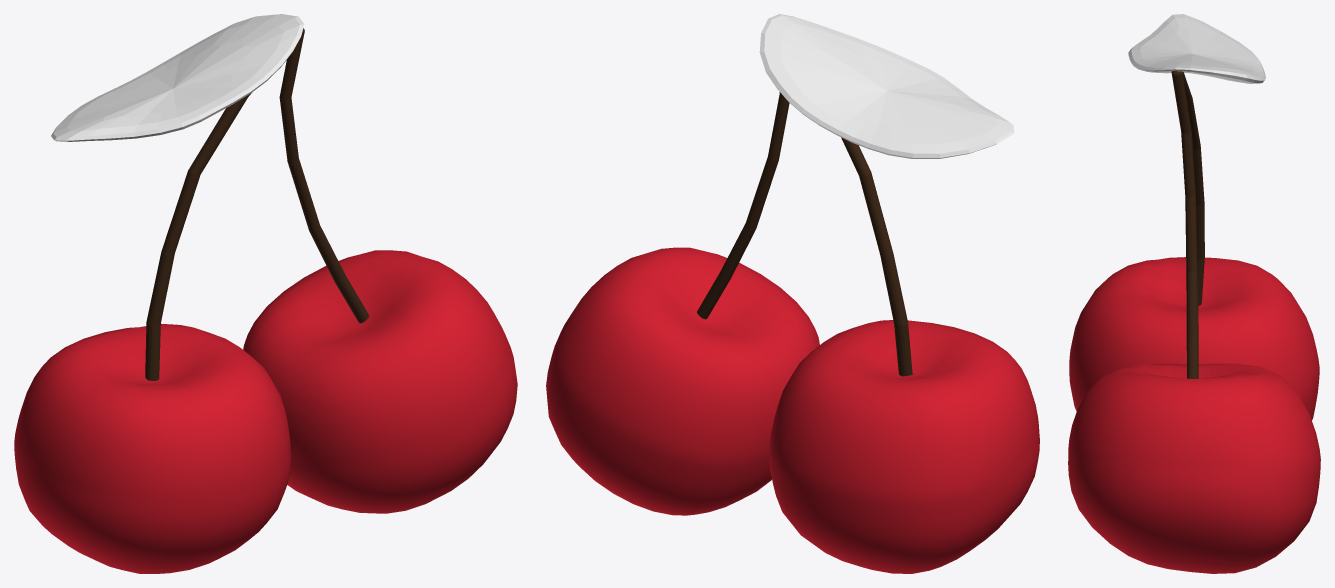
The model's file is cherry.fbx.
The picture shows the model from 3 angles, left to right: view 1: azimuth 30°, elevation 25°; view 2: azimuth 150°, elevation 25°; view 3: azimuth 270°, elevation 25°; orthographic projection. The views are drawn at different scales.
Visible parts, largest first — view 1: Cube, Cube.001, Cube.004, Cube.002, Cube.003; view 2: Cube, Cube.001, Cube.004, Cube.002, Cube.003; view 3: Cube.001, Cube, Cube.004, Cube.003, Cube.002.
Part boxes in pixels (bbox=[...]): Cube: bbox=[14, 323, 290, 573]; Cube.001: bbox=[243, 250, 517, 513]; Cube.004: bbox=[51, 14, 304, 141]; Cube.002: bbox=[145, 92, 252, 380]; Cube.003: bbox=[279, 28, 369, 323]; Cube: bbox=[769, 320, 1039, 573]; Cube.001: bbox=[546, 247, 819, 515]; Cube.004: bbox=[759, 14, 1014, 158]; Cube.002: bbox=[841, 137, 912, 376]; Cube.003: bbox=[697, 92, 789, 319]; Cube.001: bbox=[1068, 363, 1320, 573]; Cube: bbox=[1069, 257, 1319, 420]; Cube.004: bbox=[1128, 14, 1265, 83]; Cube.003: bbox=[1171, 71, 1198, 378]; Cube.002: bbox=[1182, 71, 1204, 305].
Bounding box in the file's own units: 311 × 332 × 164.
